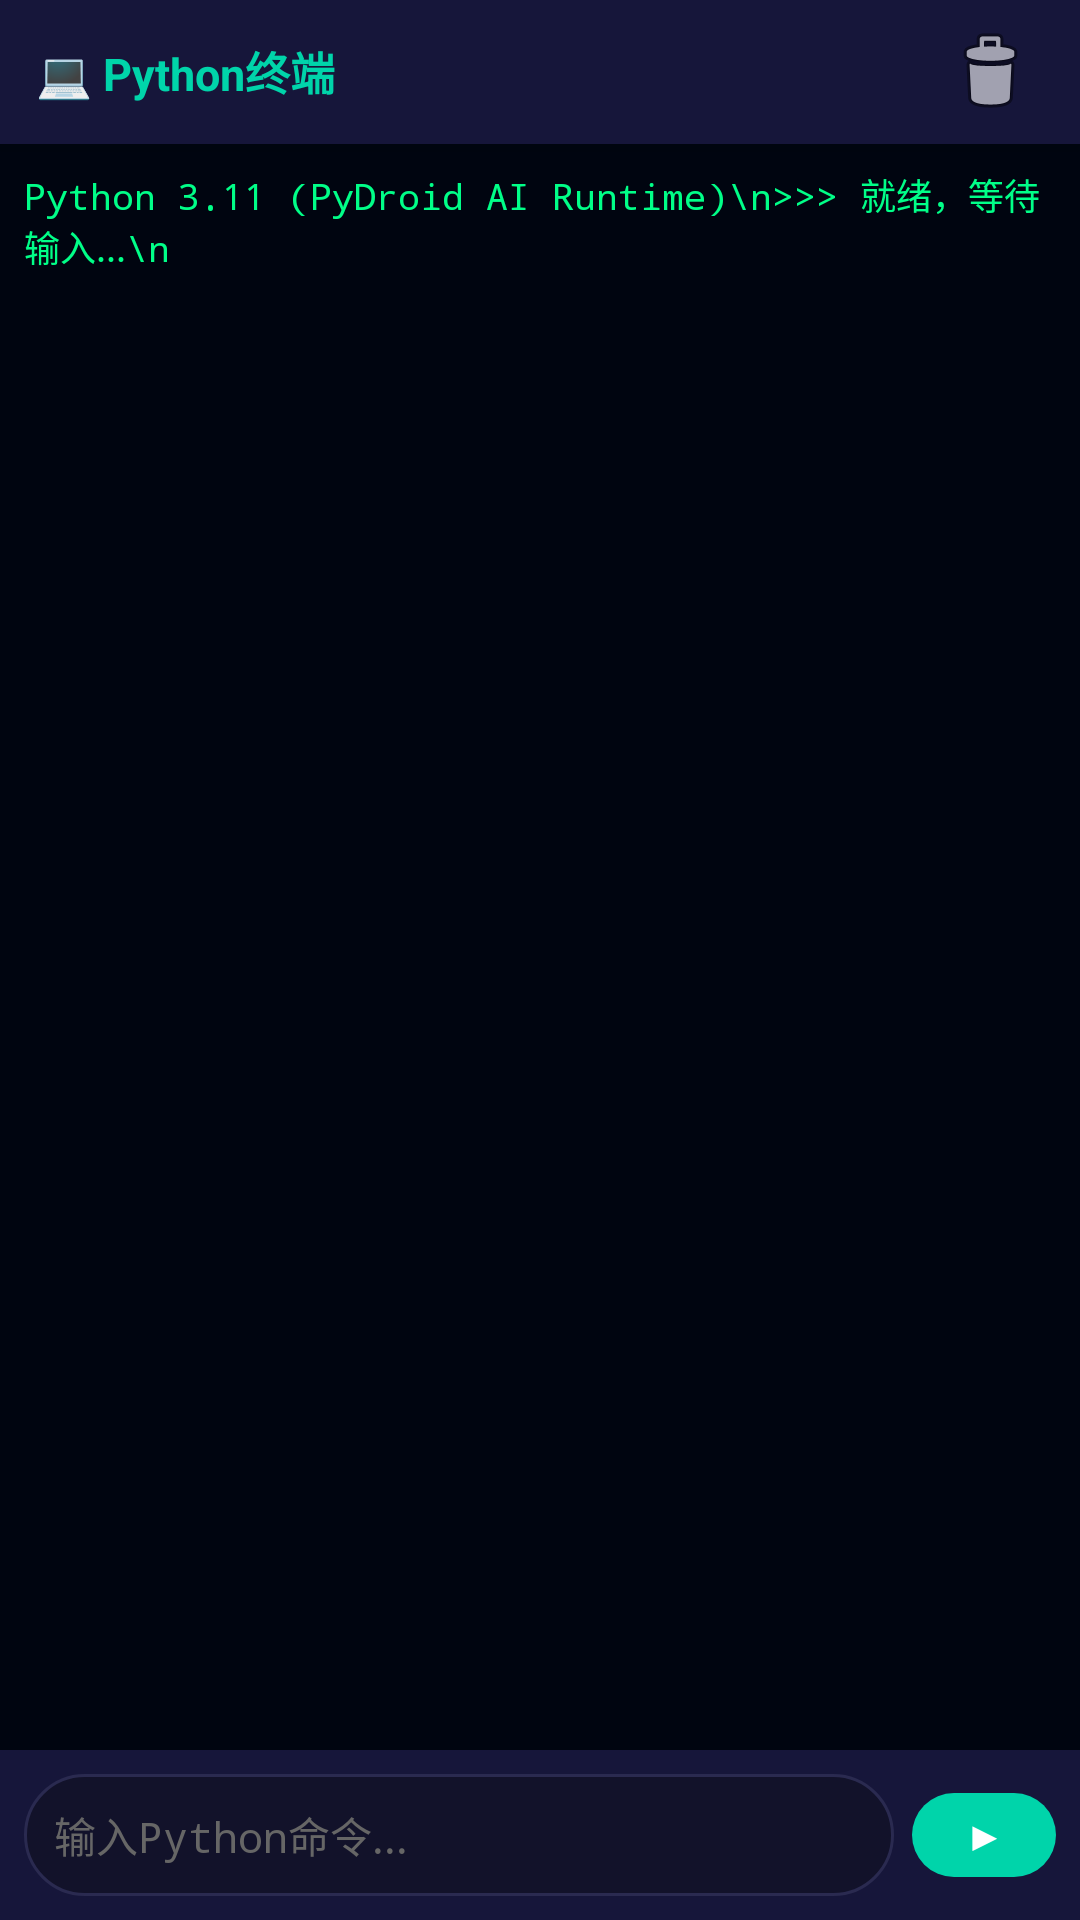

Named icons in this screenshot (1080w x 1920h) and their bounding boxes, (x1, y1, x2, y2):
delete: (965, 35, 1016, 106)
